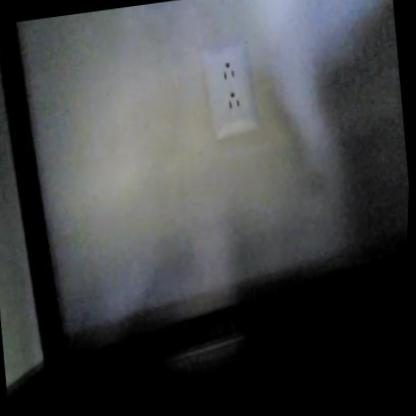OUTLET: (197, 39, 264, 143)
